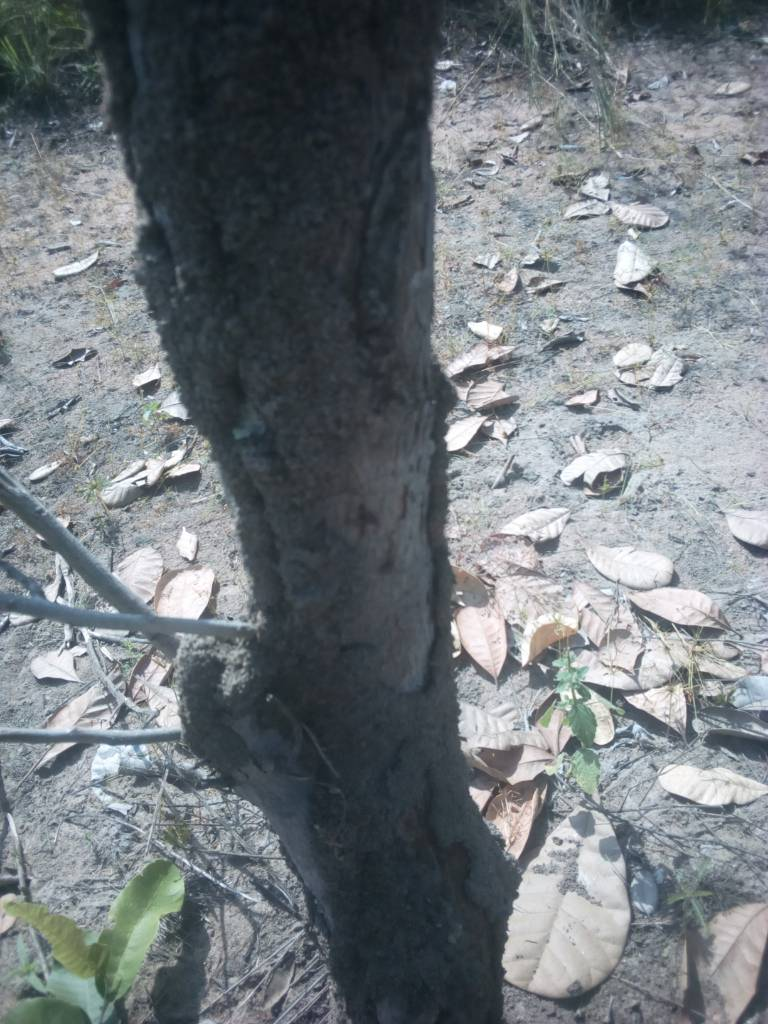Termites: (146, 30, 515, 969)
